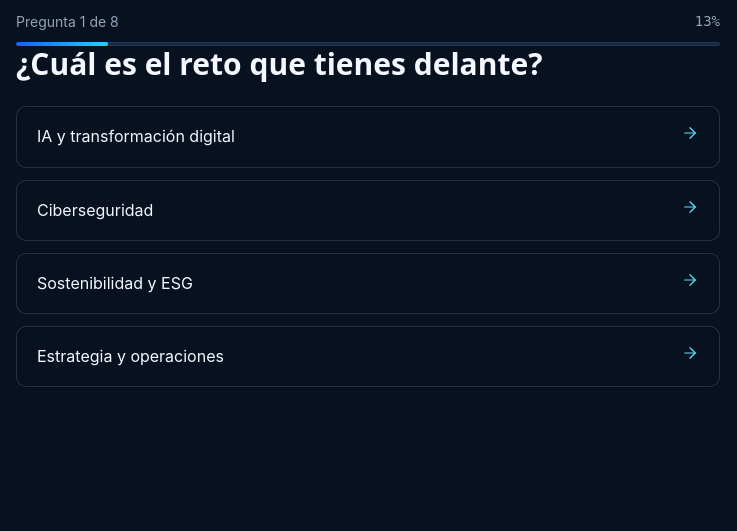
FormWizard — la pregunta de frenos admite varias respuestas y se puede saltar › aparece justo después de presupuesto y antes de pedir los datos
Click the button "Ciberseguridad" at (95, 210), box [16, 180, 720, 241]
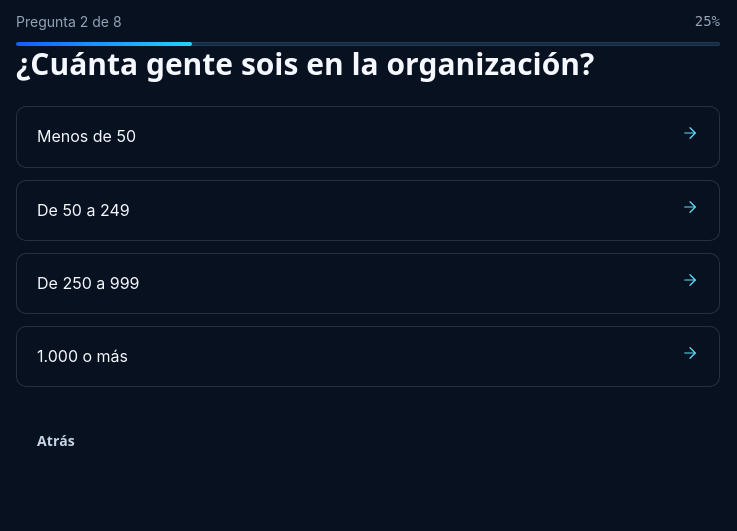
Click the button "De 50 a 249" at (83, 210), box [16, 180, 720, 241]
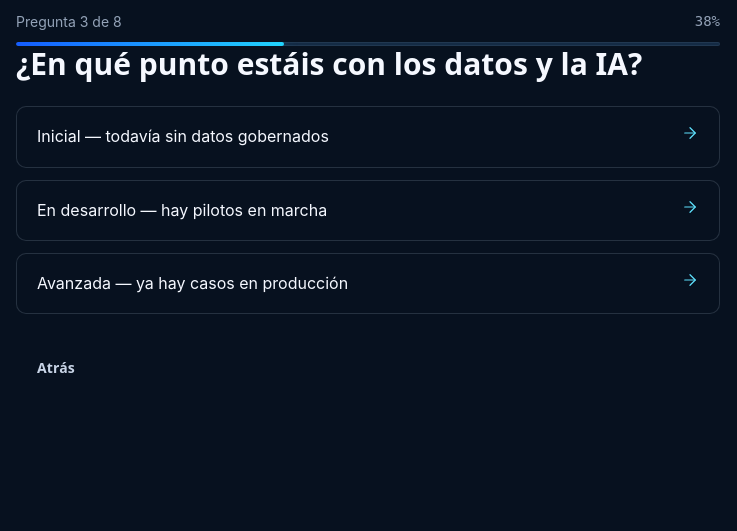
Click the button "Inicial — todavía sin datos gobernados" at (183, 136), box [16, 106, 720, 168]
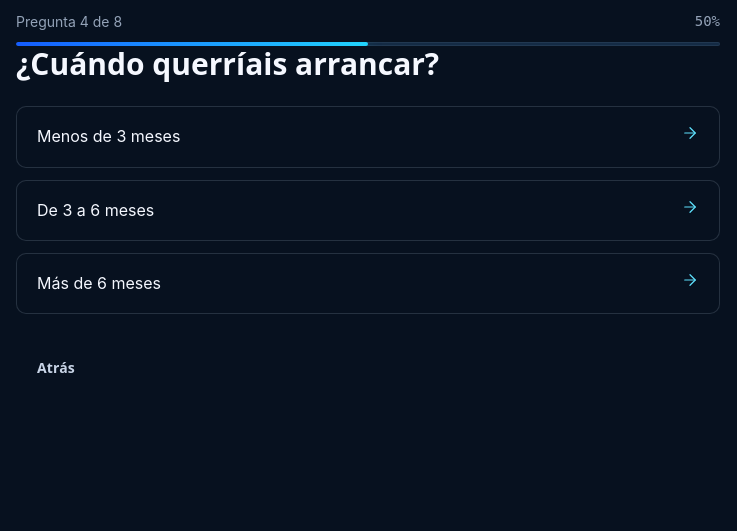
Click the button "De 3 a 6 meses" at (96, 210), box [16, 180, 720, 241]
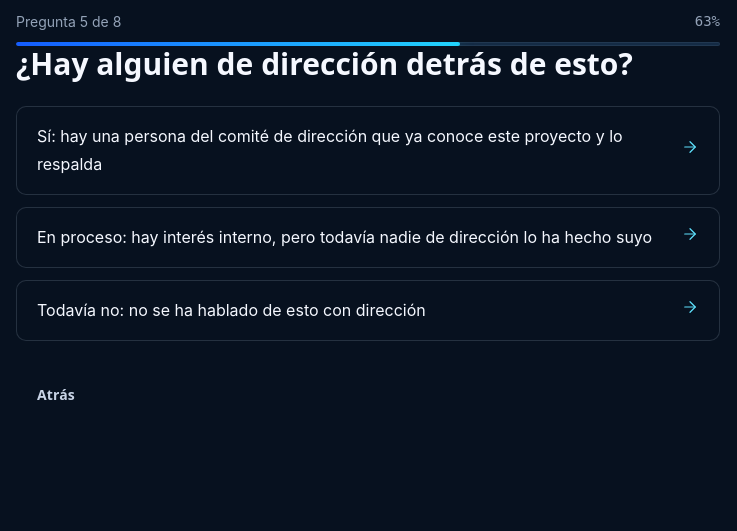
Click the button "Todavía no: no se ha hablado de esto con dirección" at (368, 311), box [16, 280, 720, 341]
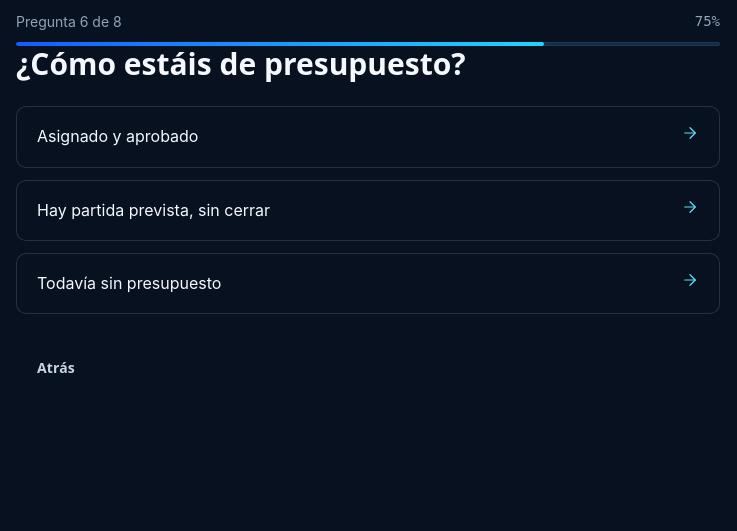
Click the button "Asignado y aprobado" at (118, 136), box [16, 106, 720, 168]
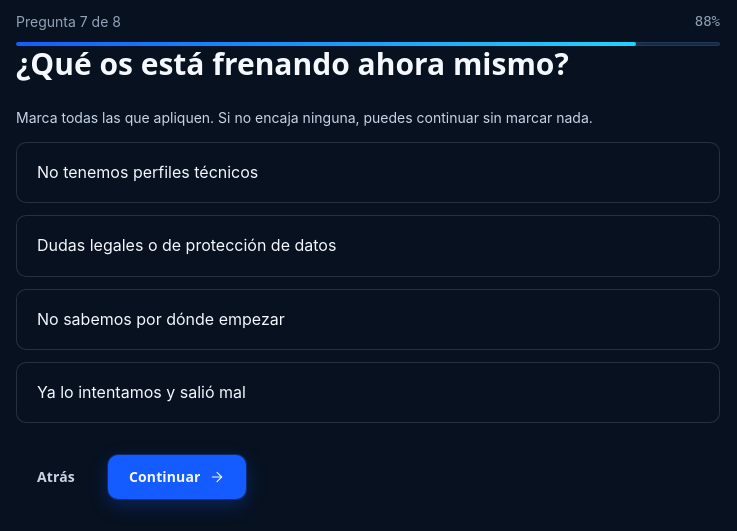
Expected: the text "¿Qué os está frenando ahora mismo?" is shown, [16, 46, 569, 82]
